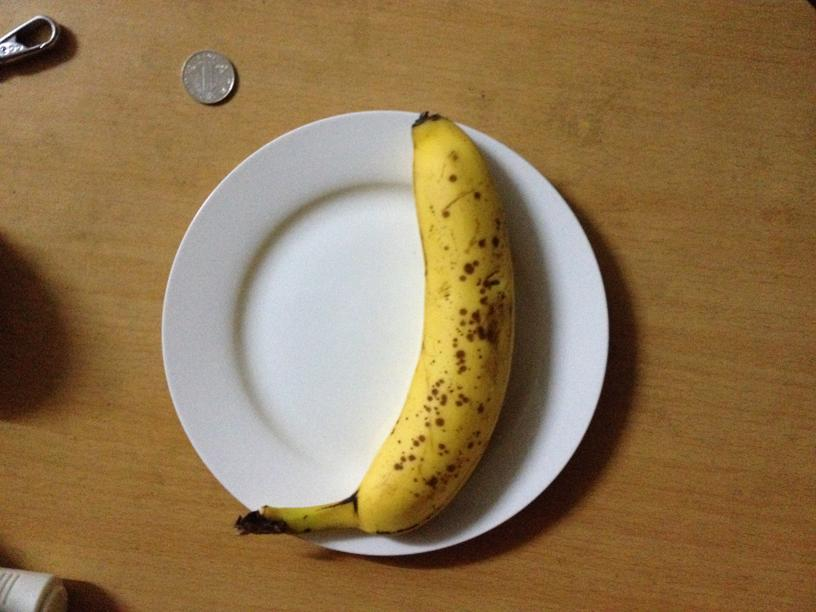banana: (283, 112, 517, 533)
coin: (180, 49, 236, 106)
